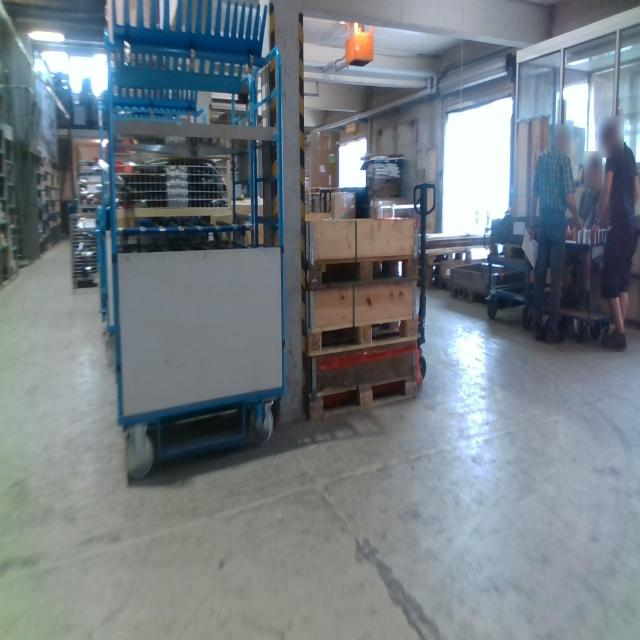pallet: (308, 374, 417, 426), (303, 315, 418, 363), (304, 255, 414, 291), (488, 237, 556, 264), (418, 251, 471, 267), (449, 288, 486, 305), (418, 266, 440, 275)
pallet_truck: (410, 172, 438, 389), (317, 186, 333, 223)
stillage: (105, 140, 232, 221), (68, 213, 101, 291)
